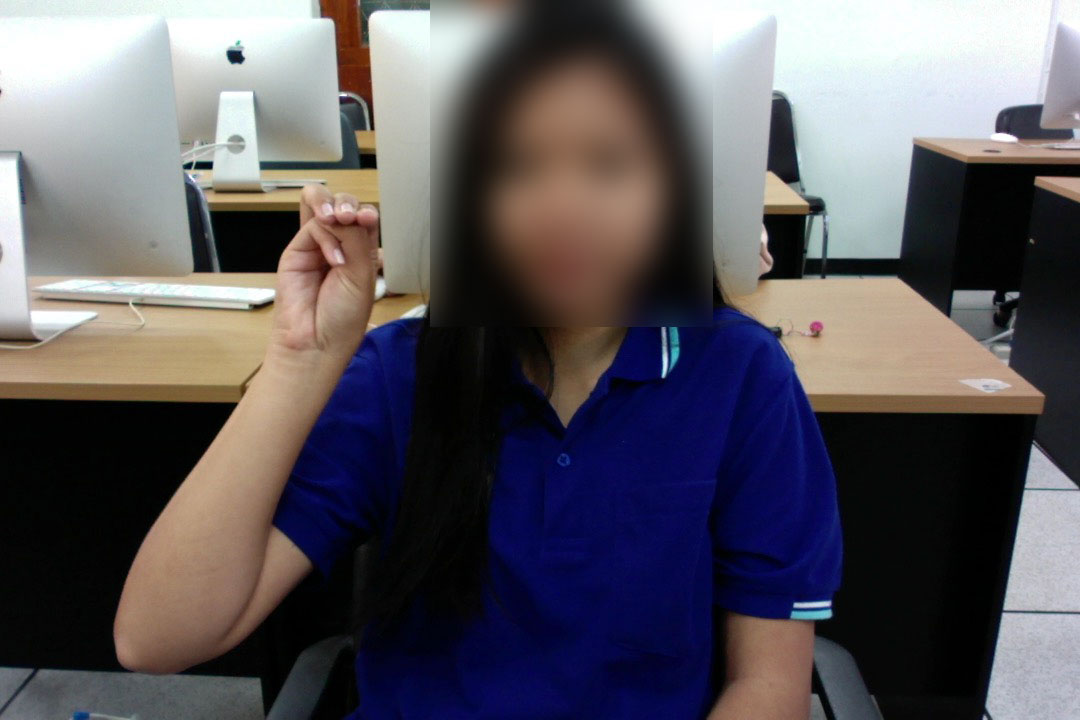mor: (267, 176, 386, 377)
